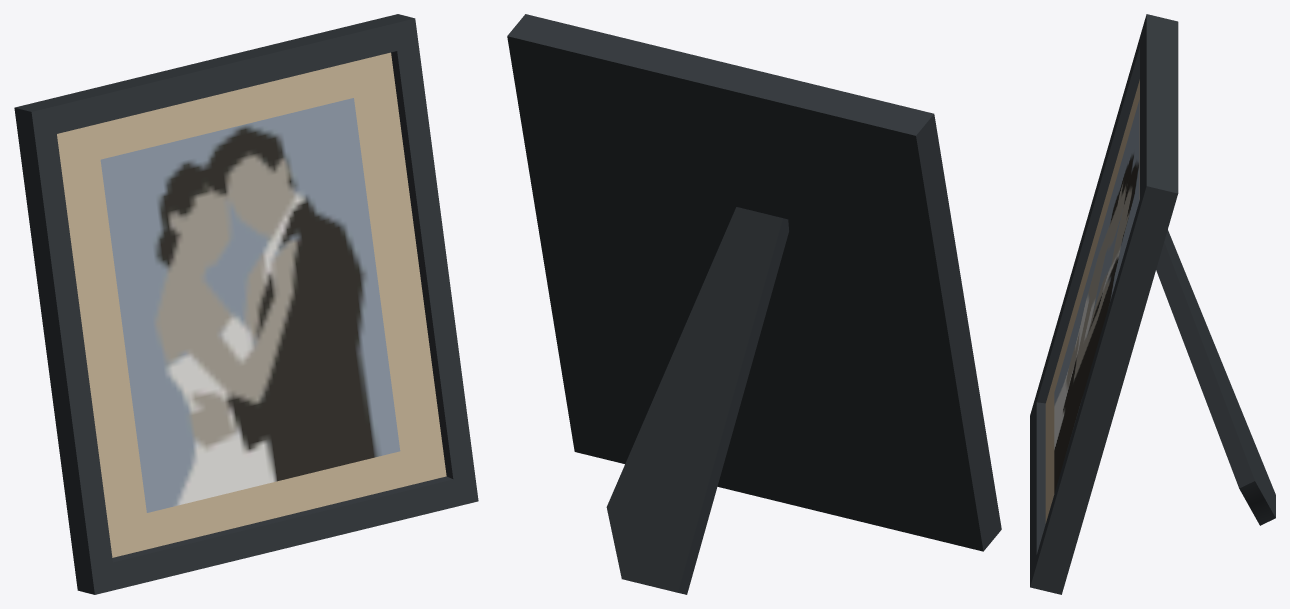
Rendered from SM_Prop_Photo_03.obj.
The picture shows the model from 3 angles, left to right: view 1: azimuth 30°, elevation 25°; view 2: azimuth 150°, elevation 25°; view 3: azimuth 270°, elevation 25°; orthographic projection. The views are drawn at different scales.
Parts seen in each view (by area): view 1: SM_Prop_Photo_03_M_PolygonOffice_01_A; view 2: SM_Prop_Photo_03_M_PolygonOffice_01_A; view 3: SM_Prop_Photo_03_M_PolygonOffice_01_A.
Boxes of the visible parts, bbox=[...] form: SM_Prop_Photo_03_M_PolygonOffice_01_A: bbox=[14, 14, 478, 594]; SM_Prop_Photo_03_M_PolygonOffice_01_A: bbox=[507, 14, 1001, 594]; SM_Prop_Photo_03_M_PolygonOffice_01_A: bbox=[1030, 14, 1275, 594].
Bounding box in the file's own units: 0.3476 × 0.3879 × 0.2097.
1 material, 1 textured.
